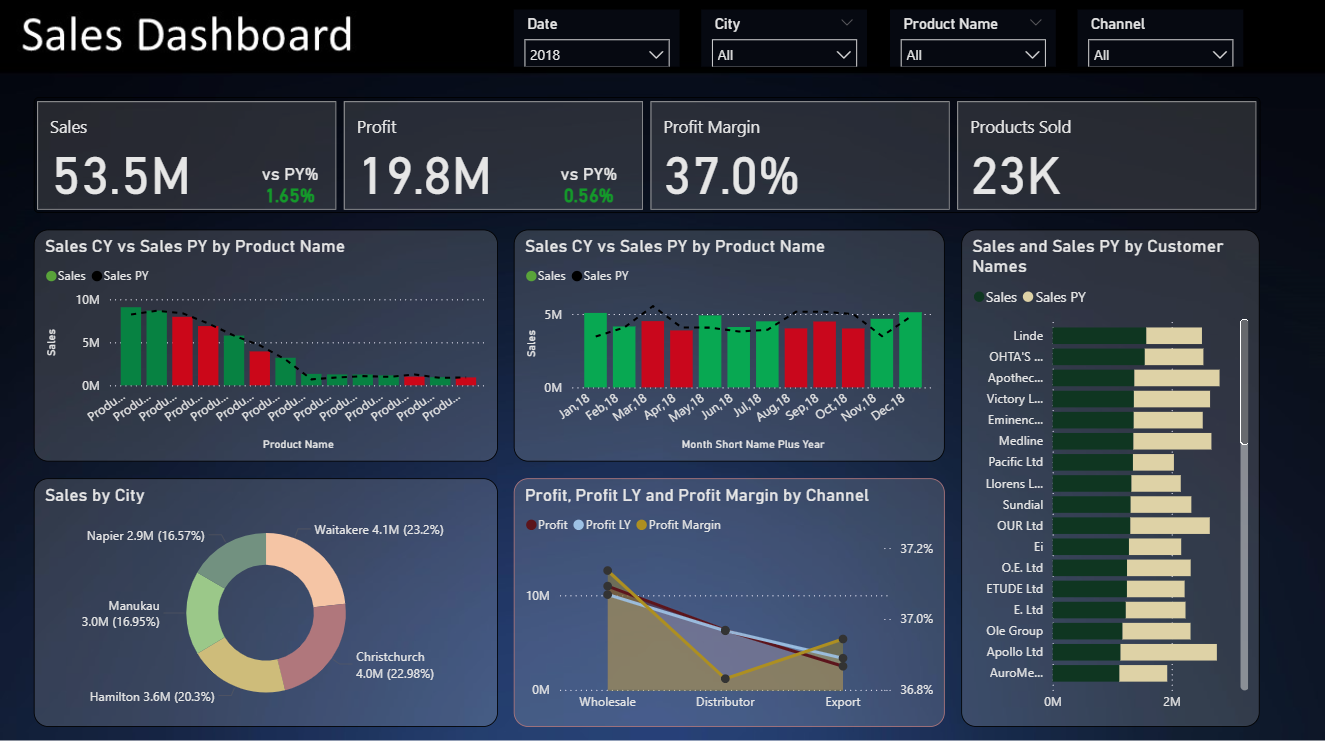

The page's visual inventory and layout, read from the dashboard file:
{"tool":"powerbi","page":{"name":"Sales DashBoard","canvas":[1280,720],"ordinal":0},"visuals":[{"type":"slicer","fields":{"Values":["DateTable.Year","DateTable.Month Short Name Plus Year"]},"box":[496,12,160,55],"z":0},{"type":"slicer","fields":{"Values":["Regions_Table.City"]},"box":[677.3,12,160,55],"z":1000},{"type":"slicer","fields":{"Values":["Products_Data.Product Name"]},"box":[858.7,12,160,55],"z":2000},{"type":"slicer","fields":{"Values":["Sales_Data.Channel"]},"box":[1040,12,160,55],"z":3000},{"type":"lineClusteredColumnComboChart","title":"Sales CY vs Sales PY by Product Name","fields":{"Y":["Measure Table.Sales"],"Y2":["Measure Table.Sales PY"],"Category":["Products_Data.Product Name"]},"box":[32,224,448,224],"z":4000},{"type":"lineClusteredColumnComboChart","title":"Sales CY vs Sales PY by Product Name","fields":{"Y":["Measure Table.Sales"],"Y2":["Measure Table.Sales PY"],"Category":["DateTable.Month Short Name Plus Year"]},"box":[496,224,416,224],"z":5000},{"type":"donutChart","fields":{"Y":["Measure Table.Sales"],"Category":["Regions_Table.City"]},"box":[32,464,448,240],"z":6000},{"type":"areaChart","fields":{"Category":["Sales_Data.Channel"],"Y":["Measure Table.Profit","Measure Table.Profit LY"],"Y2":["Measure Table.Profit Margin"]},"box":[496,464,416,240],"z":7000},{"type":"barChart","fields":{"Y":["Measure Table.Sales","Measure Table.Sales PY"],"Category":["Customer_Data.Customer Names"]},"box":[928,224,288,480],"z":8000},{"type":"cardVisual","fields":{"Data":["Measure Table.Sales","Measure Table.Profit","Measure Table.Profit Margin","Measure Table.Products Sold"]},"box":[32,96,1184,112],"z":9000},{"type":"card","title":"vs PY%","fields":{"Values":["Measure Table.Sales vs py %"]},"box":[240,160,80,48],"z":10000},{"type":"card","title":"vs PY%","fields":{"Values":["Measure Table.Profit vs LY %"]},"box":[528,160,80,48],"z":11000}]}

Visuals, with their boxes in screenshot pixels (x1, y1, x2, y2), scaled from the page's 1280x720 canvas onto the 1325x742 screenshot:
slicer - DateTable.Year x DateTable.Month Short Name Plus Year: <region>513, 12, 679, 69</region>
slicer - Regions_Table.City: <region>701, 12, 867, 69</region>
slicer - Products_Data.Product Name: <region>889, 12, 1055, 69</region>
slicer - Sales_Data.Channel: <region>1077, 12, 1242, 69</region>
"Sales CY vs Sales PY by Product Name" lineClusteredColumnComboChart: <region>33, 231, 497, 462</region>
"Sales CY vs Sales PY by Product Name" lineClusteredColumnComboChart: <region>513, 231, 944, 462</region>
donutChart - Measure Table.Sales x Regions_Table.City: <region>33, 478, 497, 726</region>
areaChart - Sales_Data.Channel x Measure Table.Profit: <region>513, 478, 944, 726</region>
barChart - Measure Table.Sales x Measure Table.Sales PY: <region>961, 231, 1259, 726</region>
cardVisual - Measure Table.Sales x Measure Table.Profit: <region>33, 99, 1259, 214</region>
"vs PY%" card: <region>248, 165, 331, 214</region>
"vs PY%" card: <region>547, 165, 629, 214</region>
